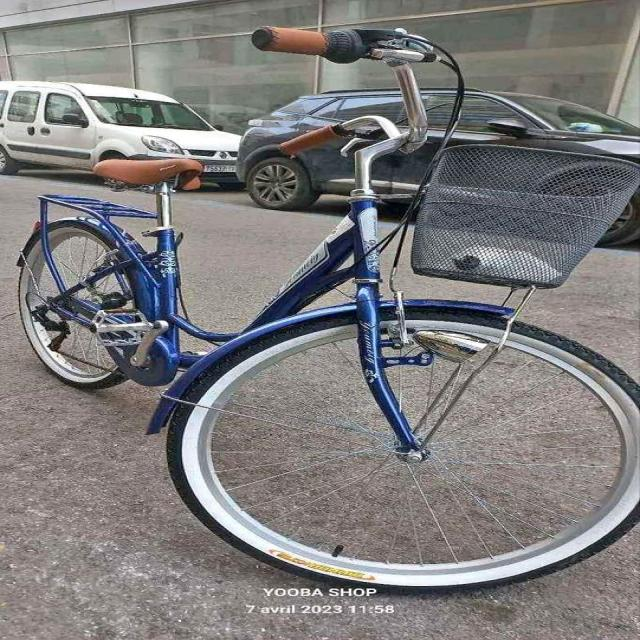Car: (0, 80, 239, 189)
